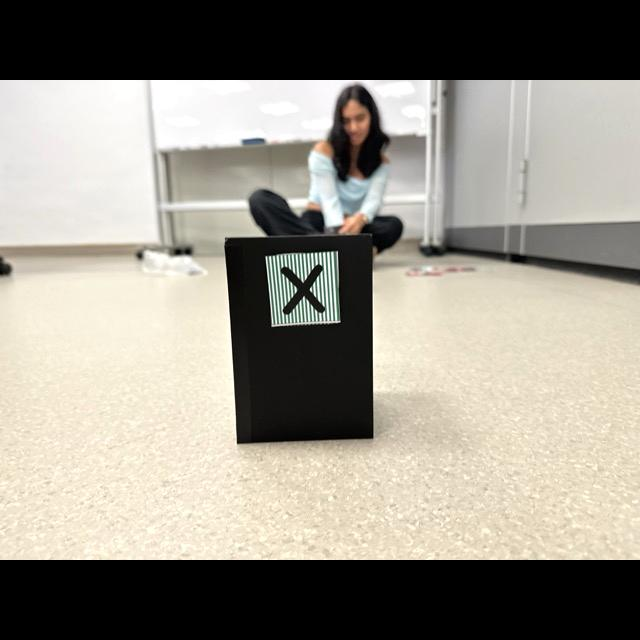X: (280, 264, 325, 314)
